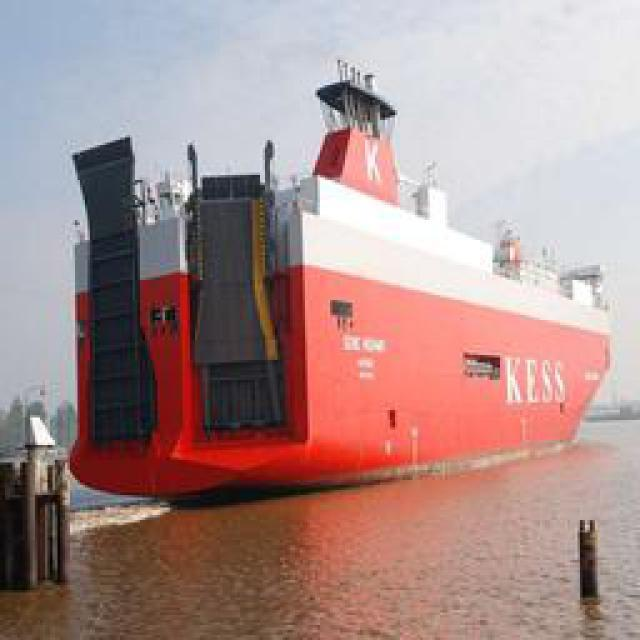Ship: (53, 53, 640, 510)
